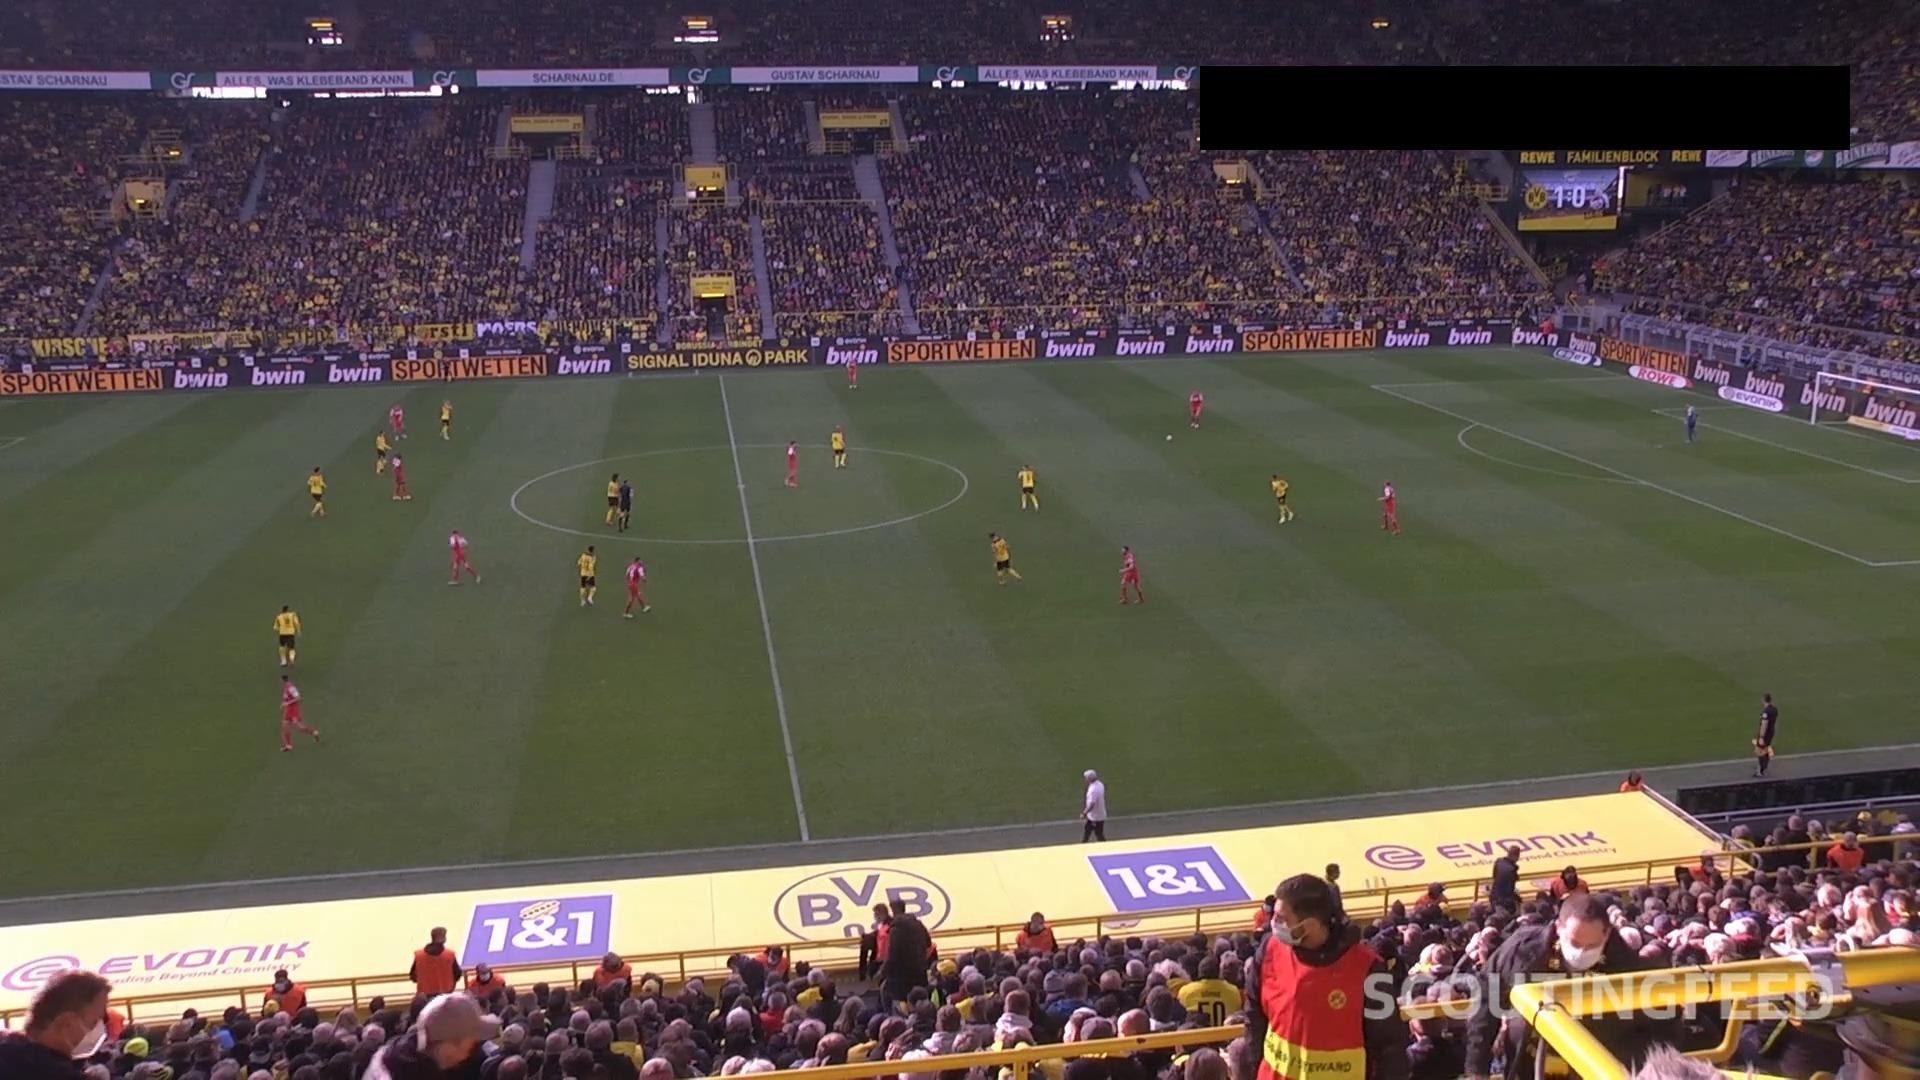ball: (1164, 434, 1172, 442)
coach: (1078, 768, 1107, 842)
fan: (1250, 873, 1390, 1078), (1553, 892, 1675, 1075), (364, 991, 501, 1078), (1554, 892, 1639, 976), (877, 897, 931, 1004), (856, 902, 890, 981), (1489, 843, 1522, 907)
player: (278, 673, 321, 752), (271, 603, 302, 667), (987, 529, 1022, 585), (446, 528, 480, 585), (622, 555, 651, 618), (1116, 544, 1143, 605), (575, 544, 597, 606), (1269, 472, 1294, 524), (1376, 481, 1400, 534), (389, 453, 412, 501), (306, 465, 327, 517), (1016, 463, 1039, 510), (604, 471, 621, 526), (829, 424, 847, 468), (387, 402, 407, 440), (373, 430, 390, 474), (784, 439, 798, 487), (1683, 402, 1698, 443), (1188, 388, 1203, 428), (438, 398, 452, 440), (845, 357, 858, 389)
referee: (1751, 691, 1777, 776), (615, 476, 633, 531), (440, 357, 452, 383)
